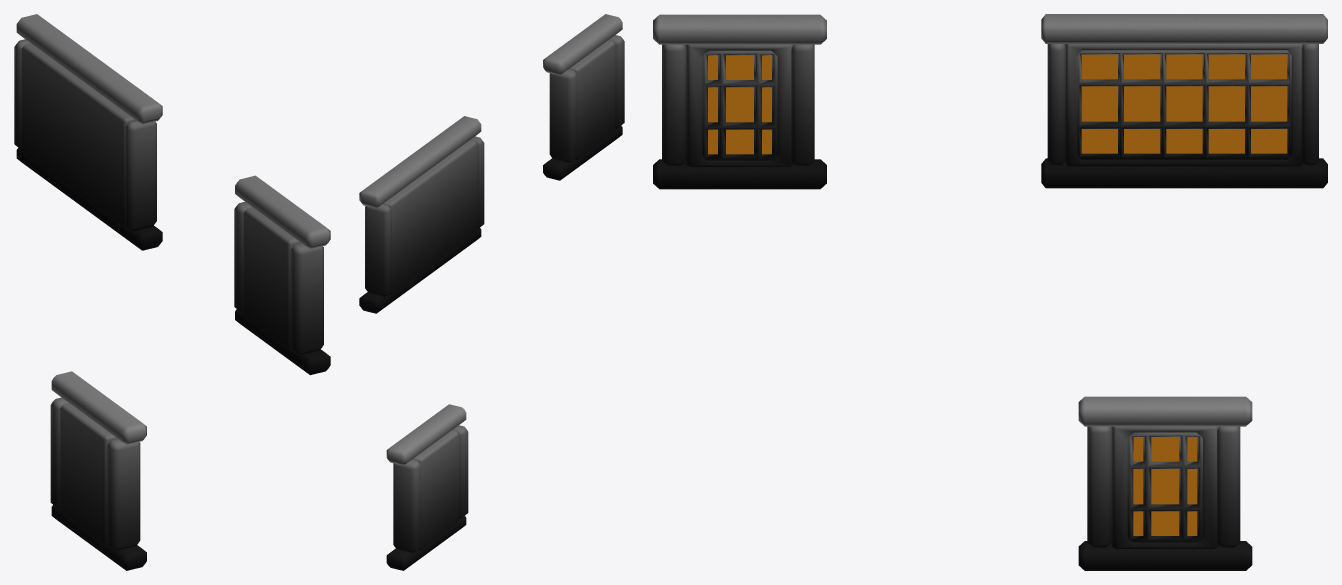
File: SM_Stone_Window_03.fbx
The picture shows the model from 3 angles, left to right: view 1: azimuth 30°, elevation 25°; view 2: azimuth 150°, elevation 25°; view 3: azimuth 270°, elevation 25°; orthographic projection. The views are drawn at different scales.
Parts seen in each view (by area): view 1: SM_Stone_Window_03; view 2: SM_Stone_Window_03; view 3: SM_Stone_Window_03.
Boxes of the visible parts, <box> form: SM_Stone_Window_03: <box>14,14,330,570</box>; SM_Stone_Window_03: <box>359,14,624,570</box>; SM_Stone_Window_03: <box>653,14,1327,570</box>.
Bounding box in the file's own units: 0.1015 × 1.39 × 1.56.
